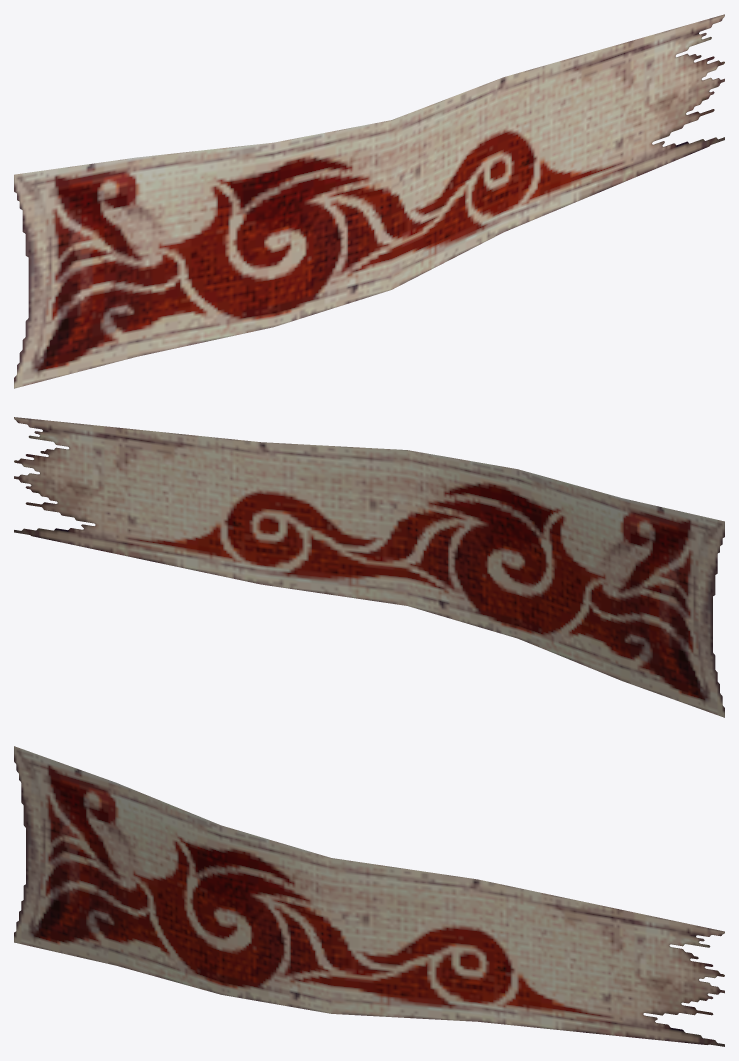
File: Flag1.obj
The picture shows the model from 3 angles, top to bottom: view 1: azimuth 30°, elevation 25°; view 2: azimuth 150°, elevation 25°; view 3: azimuth 330°, elevation 25°; orthographic projection. The views are drawn at different scales.
Bounding box in the file's own units: 119 × 32.87 × 13.61.
